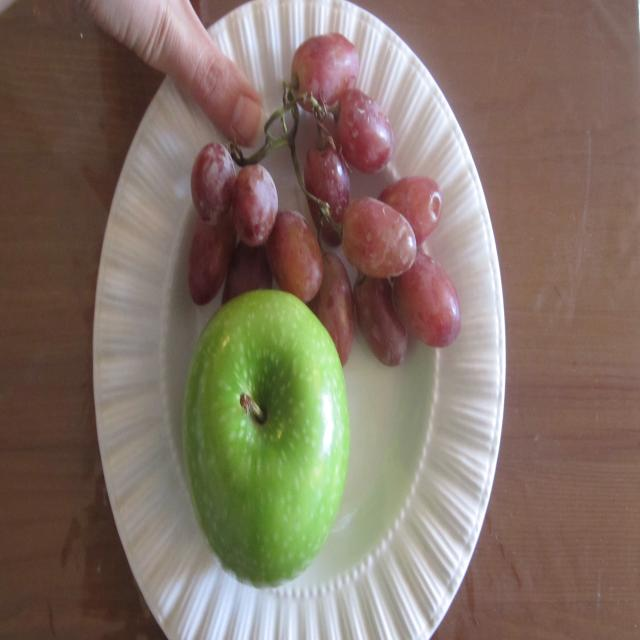apple: (177, 318, 350, 621)
grape: (178, 0, 470, 318)
